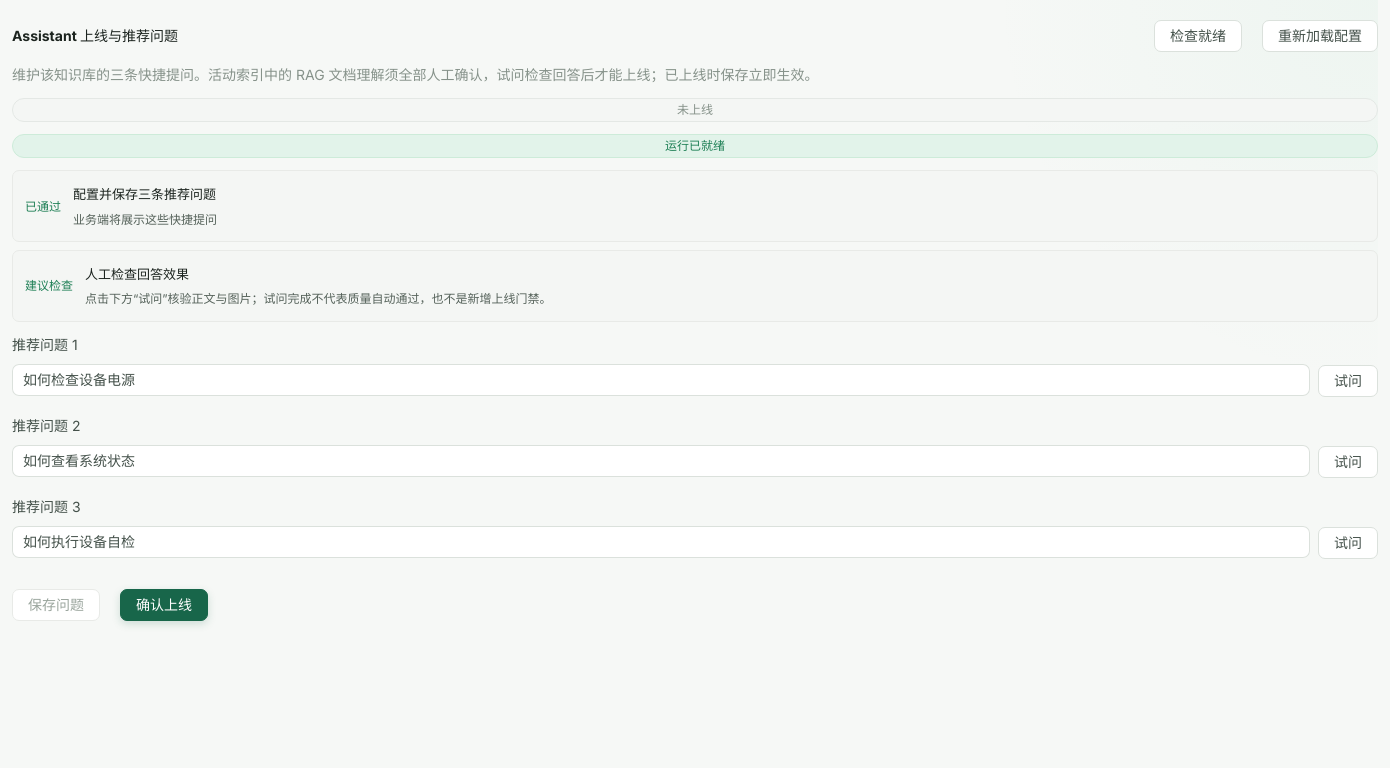
Test: knowledge Assistant settings › saves to the bound KB and publishes the saved revision
This screenshot has width=1390, height=768.
Replace the text in the field labelled "推荐问题 1" with "如何重启设备系统" at (661, 380), box [23,365,1299,395]
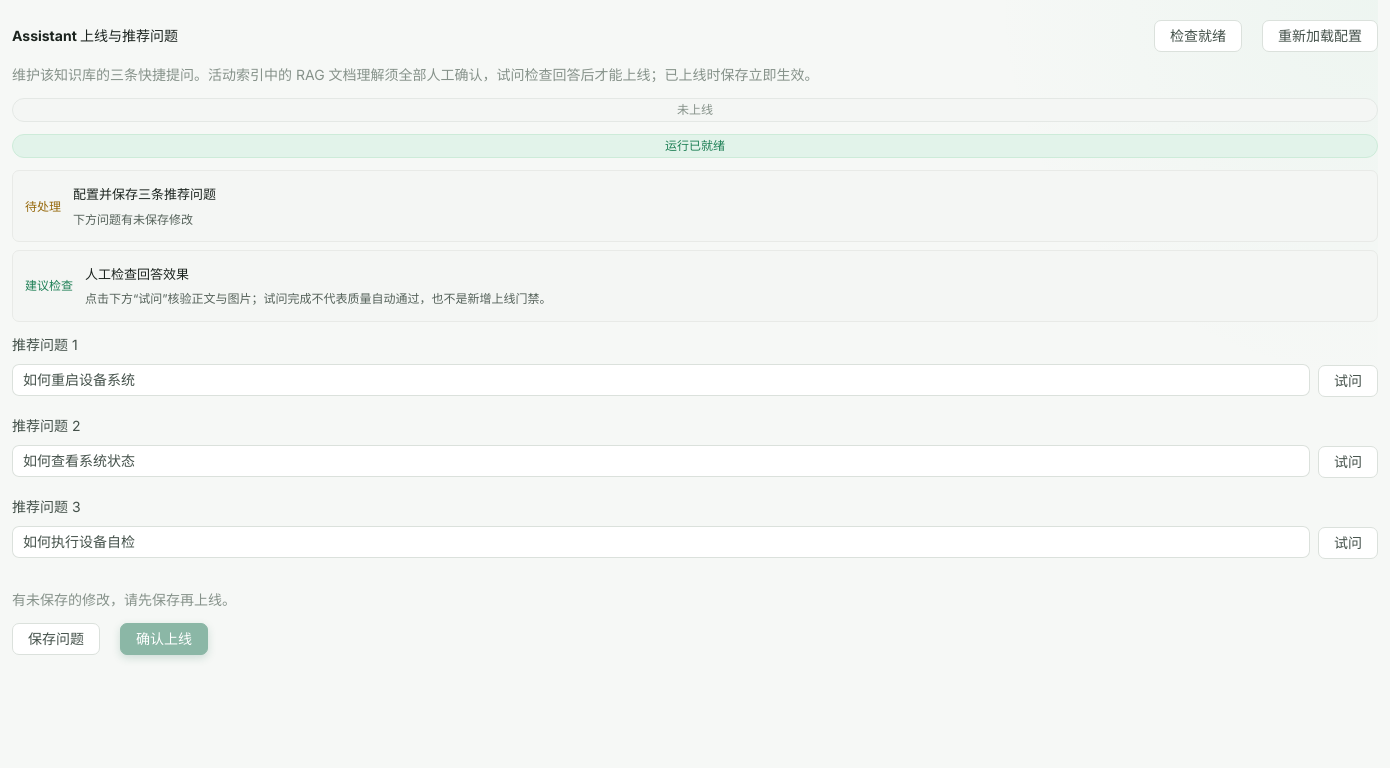
Check: the button "确认上线" is disabled, box [120,624,208,656]
Click the button "保存问题" at (56, 640), box [12,624,100,656]
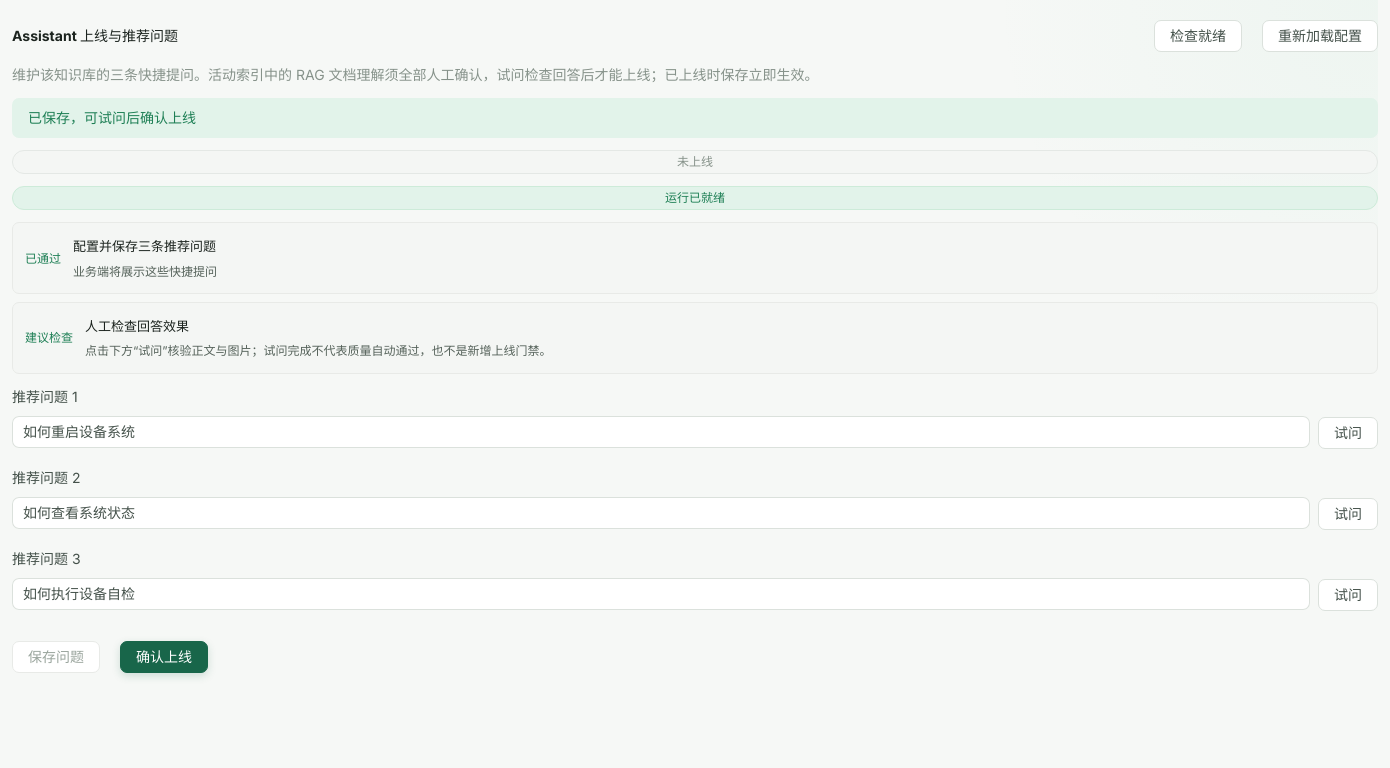
Click the button "确认上线" at (164, 657), box [120,641,208,673]
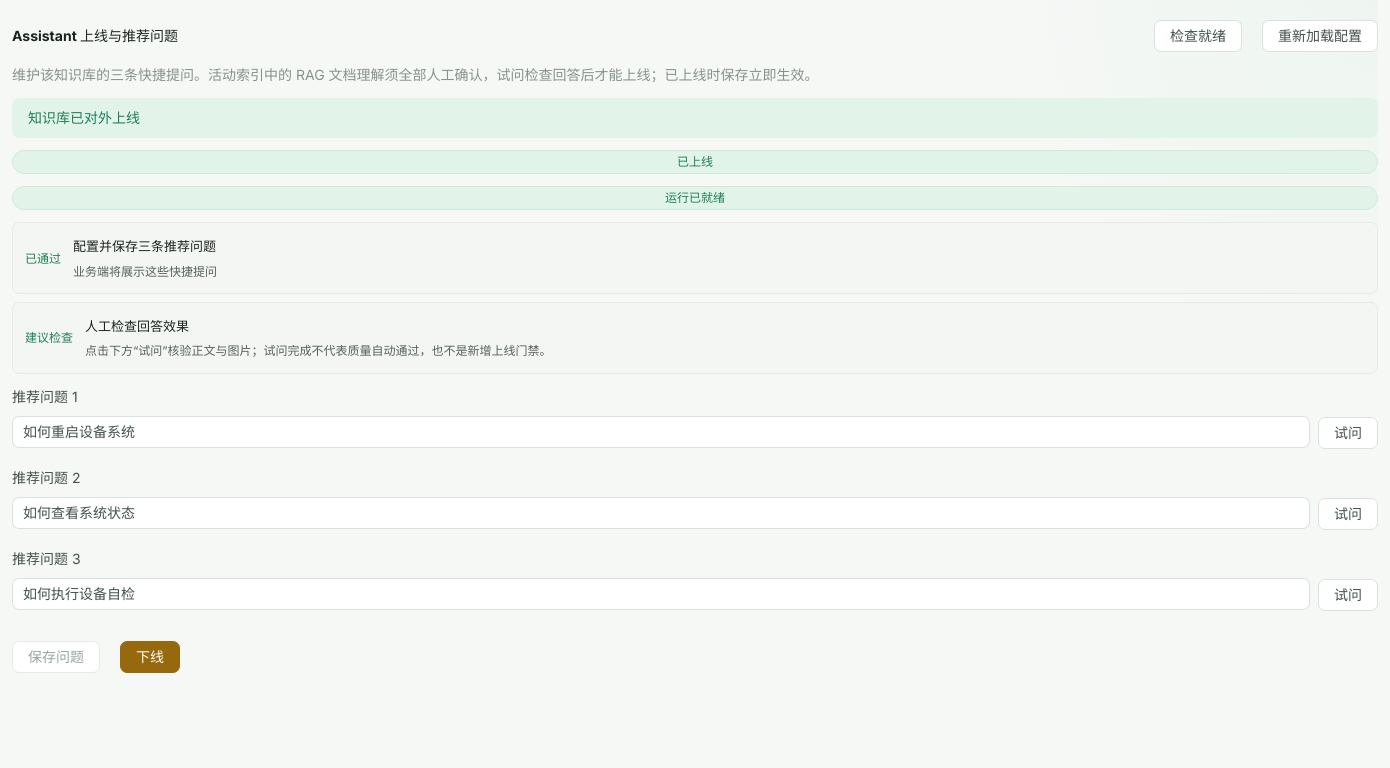
Check: the text "RAG 文档理解须全部人工确认" is shown, box [12,66,818,83]
Check: the text "知识库已对外上线" is shown, box [28,106,140,130]
